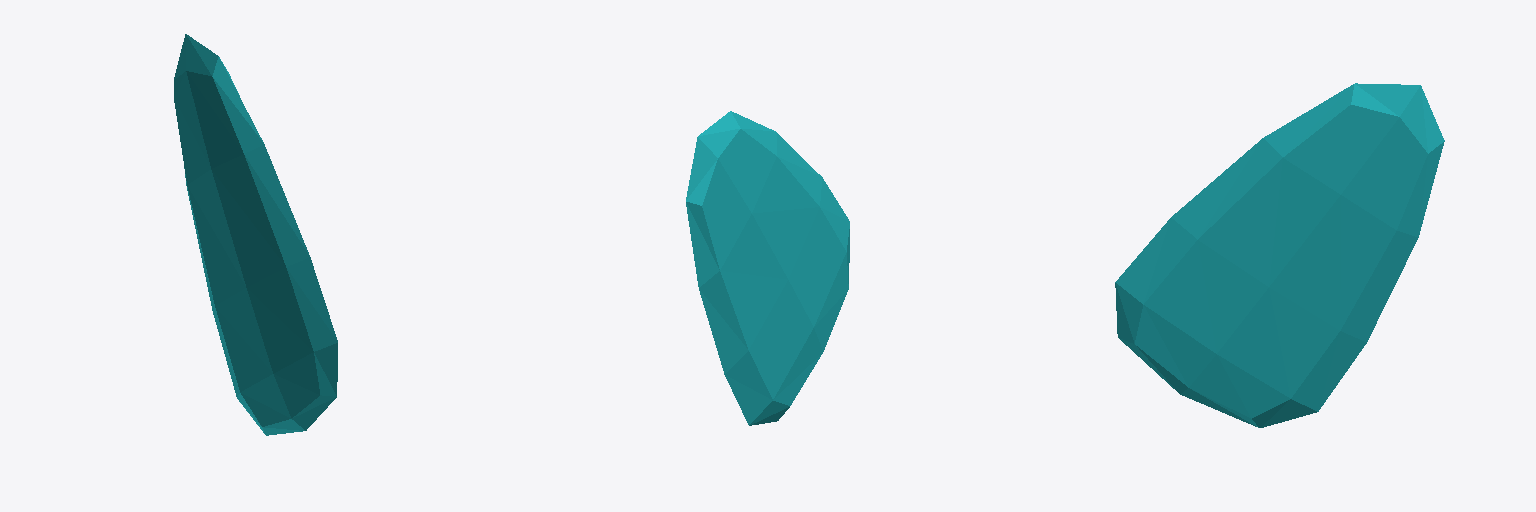
File: beeAla.obj
3 renders of one model, left to right at view 1: azimuth 30°, elevation 25°; view 2: azimuth 150°, elevation 25°; view 3: azimuth 270°, elevation 25°, orthographic.
Visible parts, largest first — view 1: Cube.005; view 2: Cube.005; view 3: Cube.005.
Boxes of the visible parts, x1=… form: Cube.005: x1=174, y1=34, x2=337, y2=435; Cube.005: x1=686, y1=111, x2=849, y2=425; Cube.005: x1=1115, y1=83, x2=1444, y2=427.
Size of the model in its own units: 0.2414 by 2.66 by 2.3.